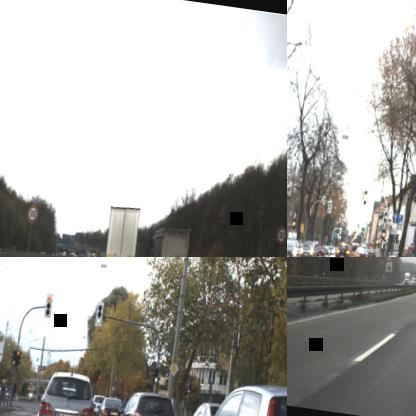go straight: (390, 211, 398, 223)
priority road: (168, 360, 180, 378)
speed limit 100: (274, 225, 287, 244), (26, 204, 38, 223)
speed limit 80: (385, 257, 393, 261)
